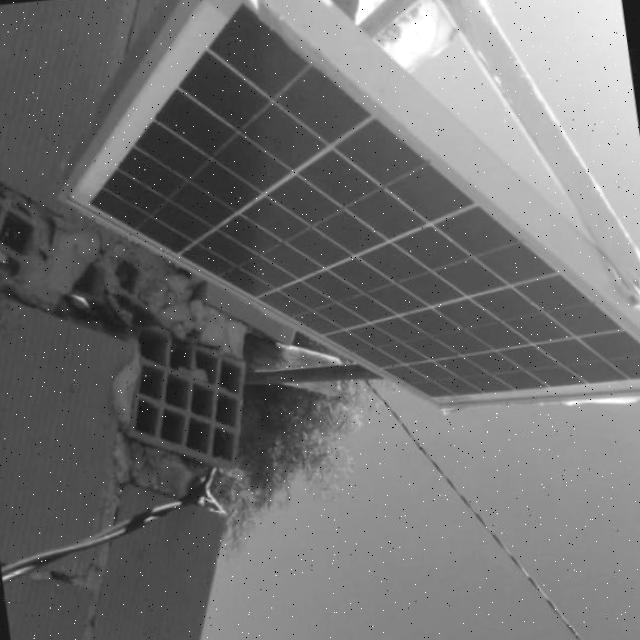Normal Solar Panel: (27, 0, 640, 478)
